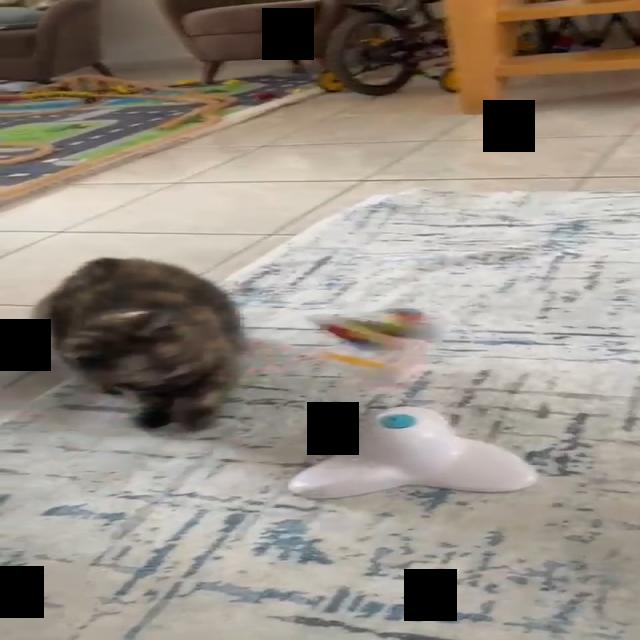authorized: (0, 256, 248, 432)
